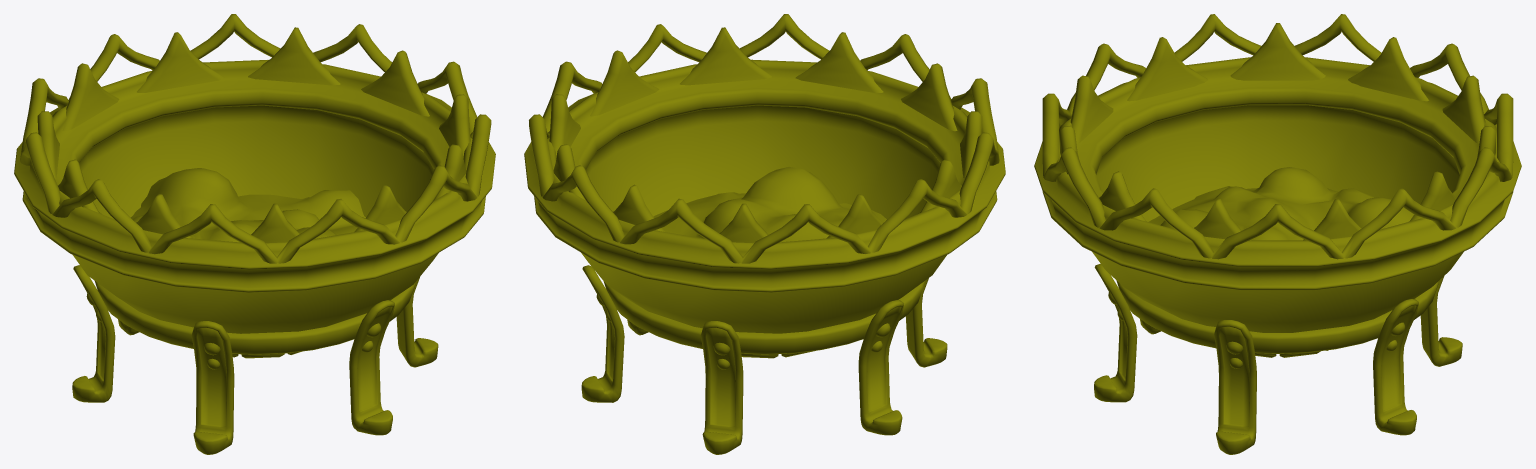
Rendered from LDI_Brasero.fbx.
The picture shows the model from 3 angles, left to right: view 1: azimuth 30°, elevation 25°; view 2: azimuth 150°, elevation 25°; view 3: azimuth 270°, elevation 25°; orthographic projection.
Parts seen in each view (by area): view 1: LDI_Brasero; view 2: LDI_Brasero; view 3: LDI_Brasero.
Part boxes in pixels (x1,y1,x2,y2): LDI_Brasero: (14,14,495,454); LDI_Brasero: (524,14,1005,454); LDI_Brasero: (1034,14,1521,454).
Size of the model in its own units: 175 by 108 by 177.
